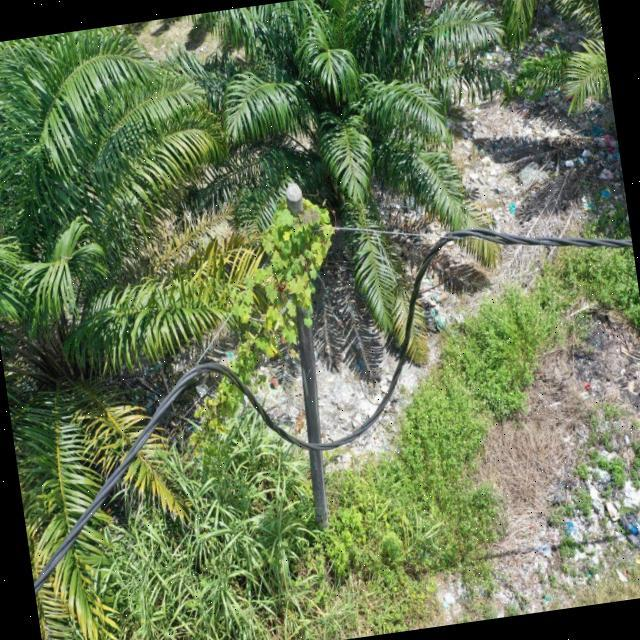critical vegetation: (134, 188, 367, 479)
